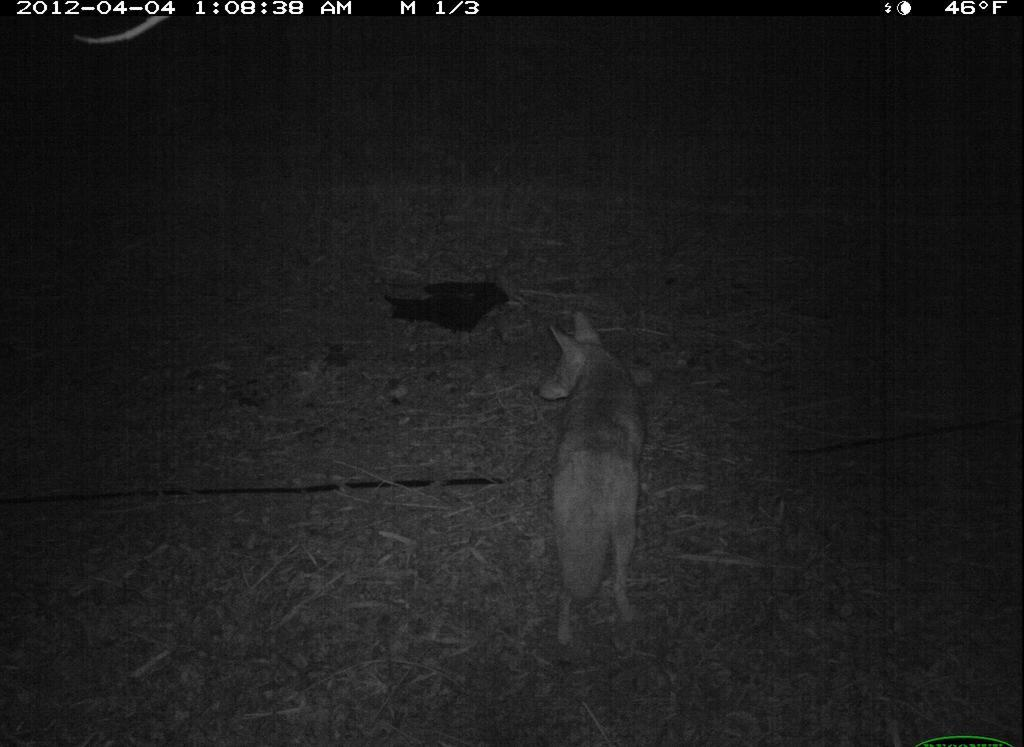coyote: (521, 305, 661, 664)
